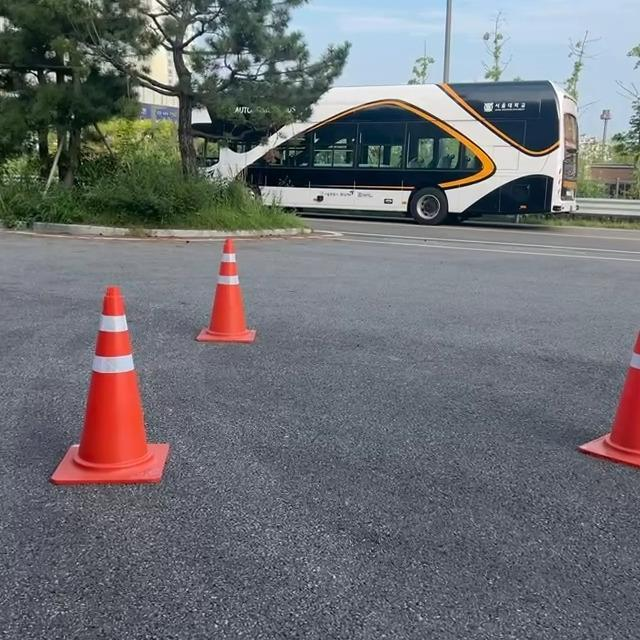fallen_object: (0, 269, 184, 524), (534, 268, 640, 526), (170, 207, 276, 359)
